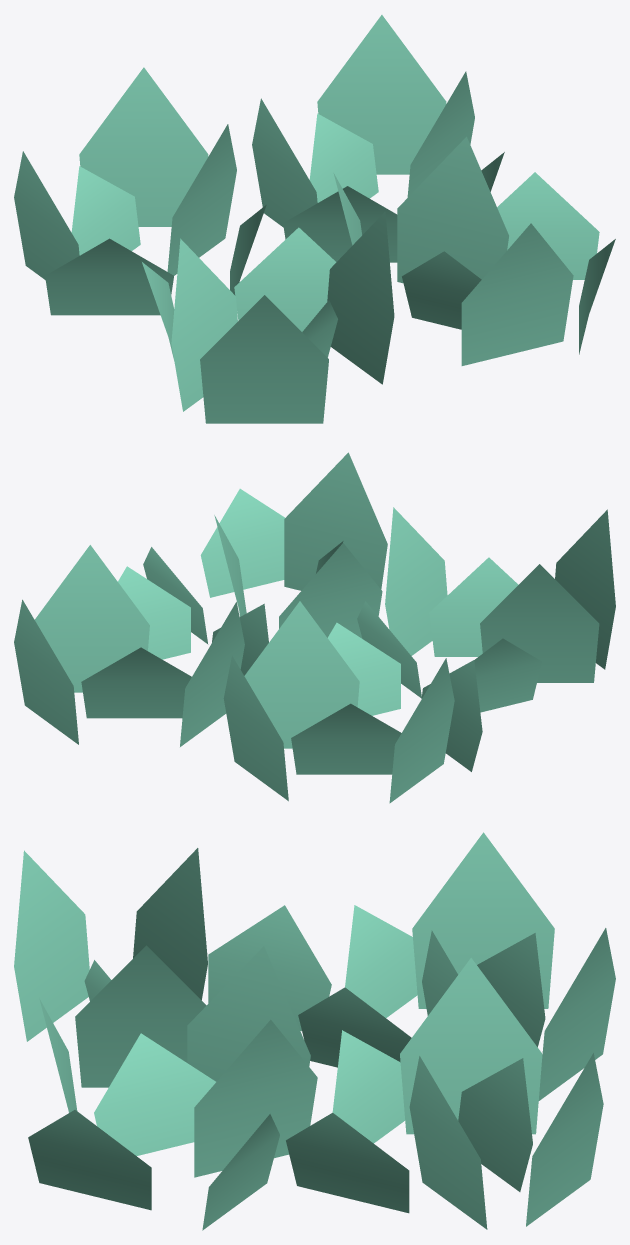
The model's file is grassLarge.glb.
3 renders of one model, top to bottom at view 1: azimuth 30°, elevation 25°; view 2: azimuth 150°, elevation 25°; view 3: azimuth 270°, elevation 25°, orthographic. The views are drawn at different scales.
Visible parts, largest first — view 1: grassLarge; view 2: grassLarge; view 3: grassLarge.
Part boxes in pixels (box(x1,y1,x2,y2)): grassLarge: box(14, 15, 615, 423); grassLarge: box(14, 452, 615, 803); grassLarge: box(14, 832, 615, 1230).
Size of the model in its own units: 1.9 by 0.57 by 1.95.
